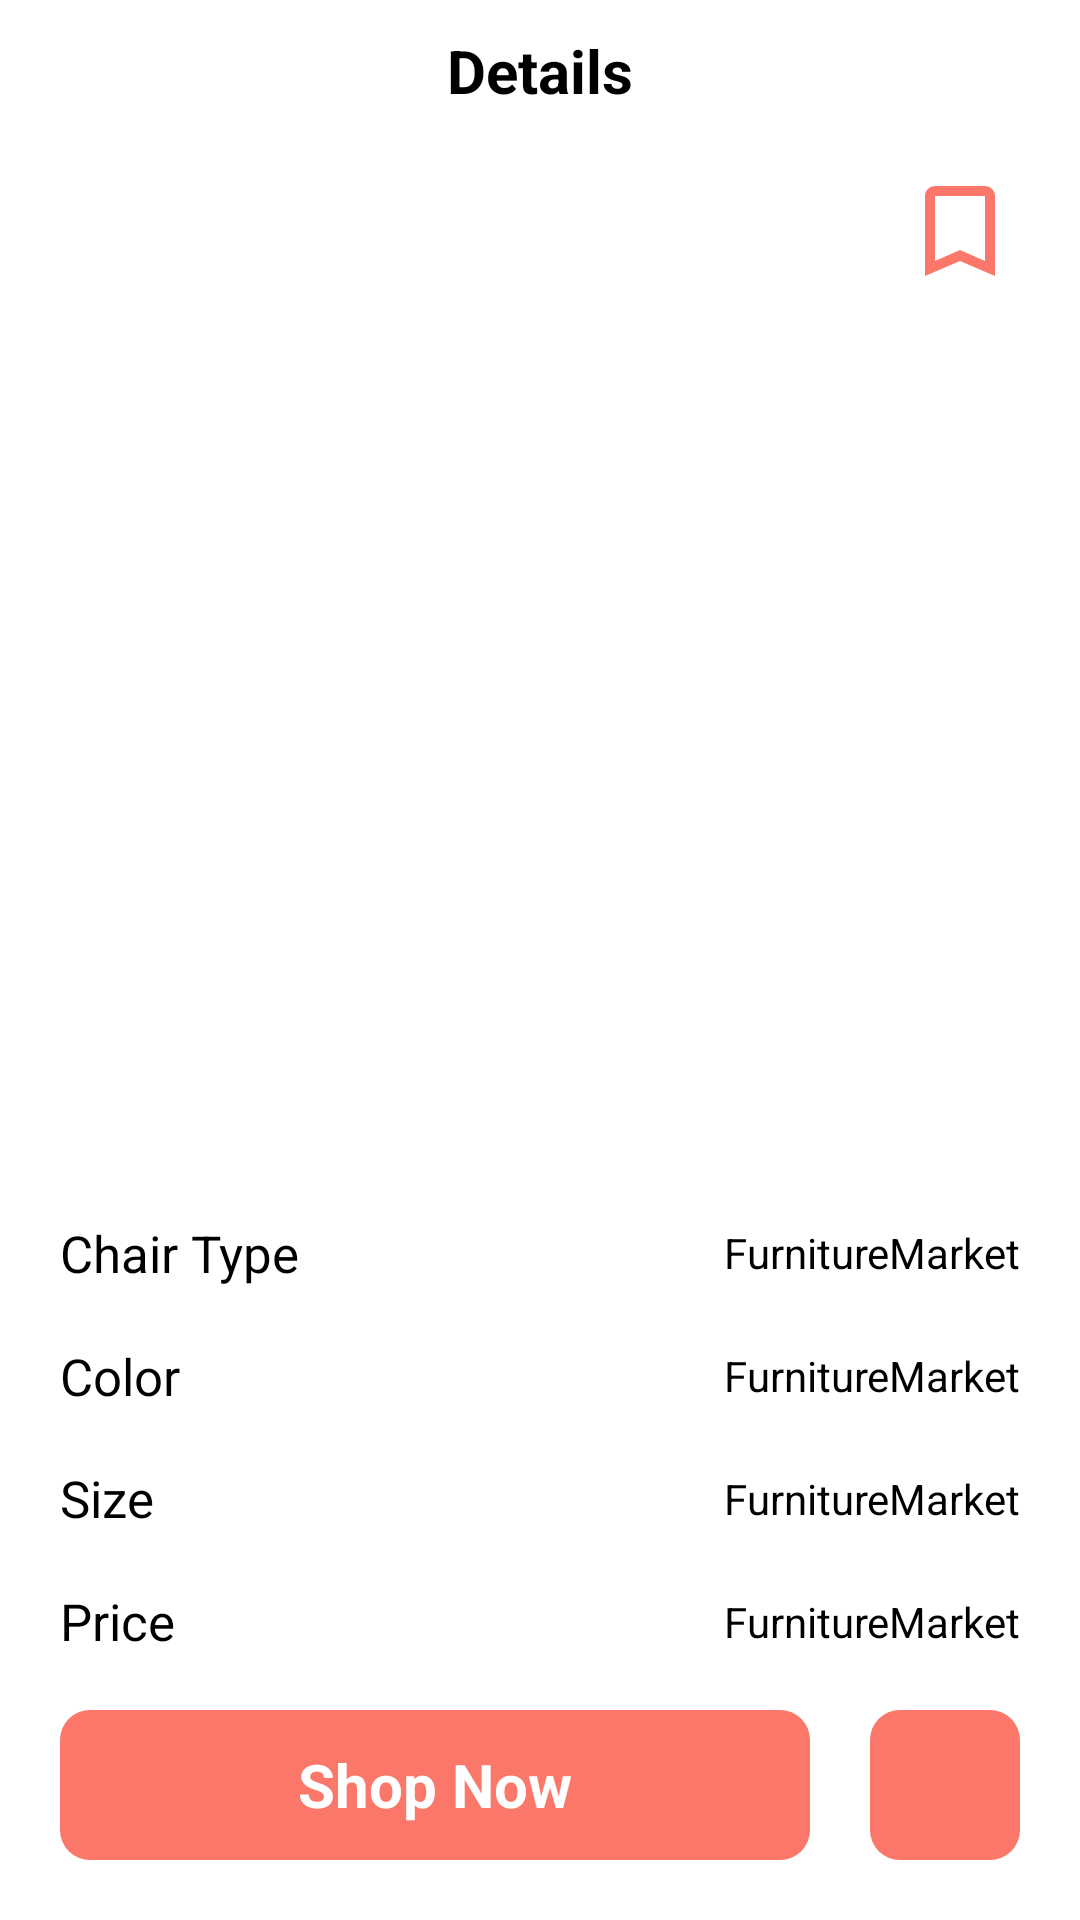

Where icons sit on this 1080×1920 app screen, as (x1, y1, x2, y2):
save is: (925, 186, 995, 276)
